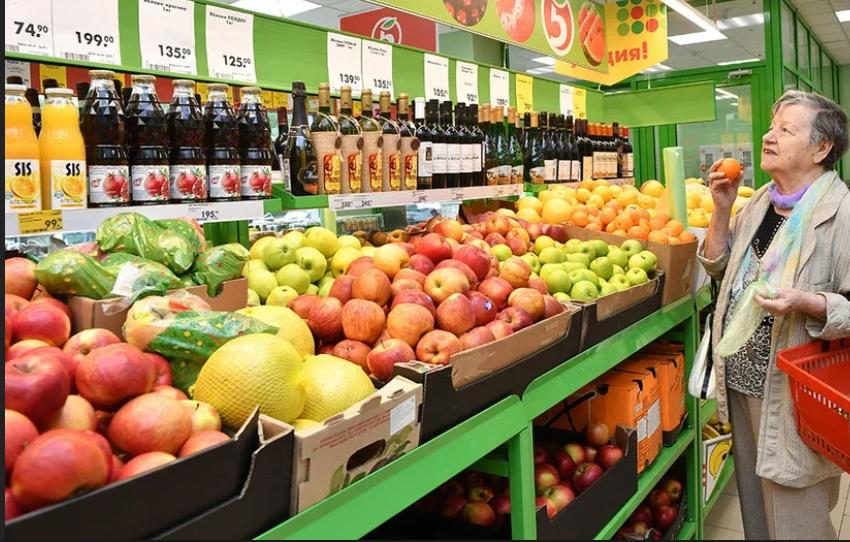green apple: (230, 228, 390, 307), (511, 235, 662, 298)
mandarin: (567, 198, 698, 243)
orange: (507, 179, 665, 225)
red apple: (0, 256, 233, 524), (292, 250, 568, 376), (436, 427, 638, 530)
